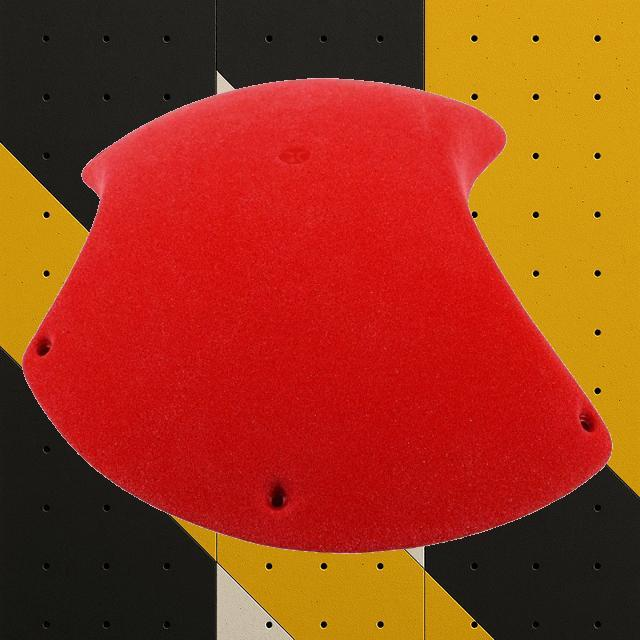Sloper: (21, 76, 613, 554)
